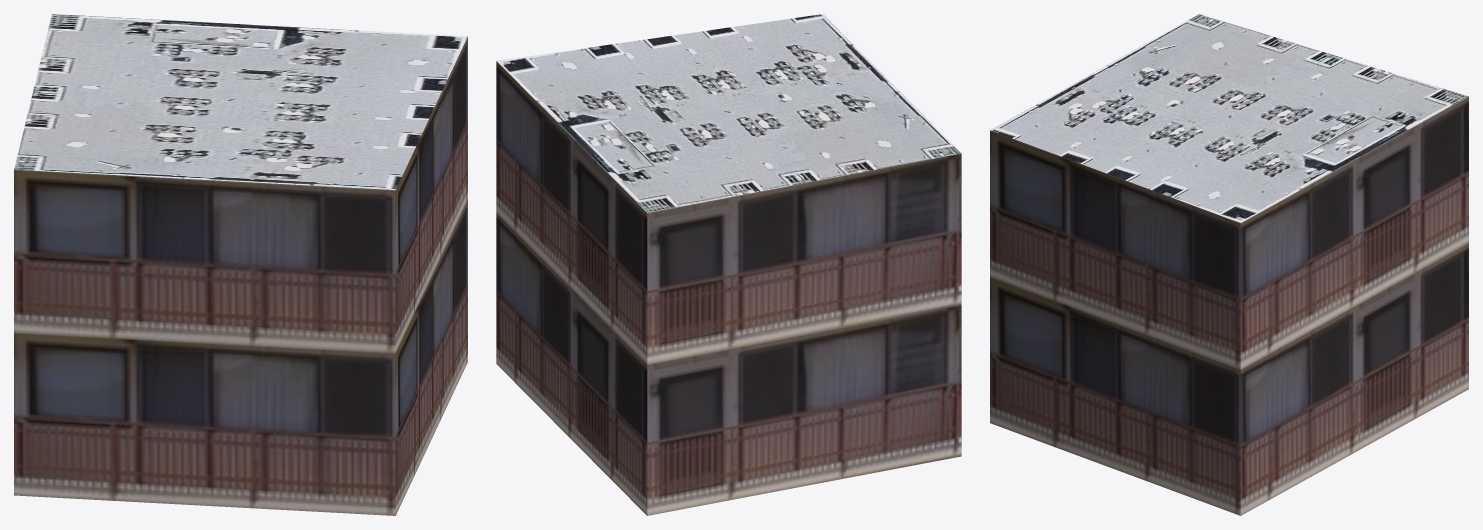
Rendered from ResTex__4941.fbx.
3 views of the same model, side by side, from view 1: azimuth 30°, elevation 25°; view 2: azimuth 150°, elevation 25°; view 3: azimuth 270°, elevation 25° (orthographic). The views are drawn at different scales.
Visible parts, largest first — view 1: CityEngineMaterial_6_m, CityEngineMaterial_8_m; view 2: CityEngineMaterial_6_m, CityEngineMaterial_8_m; view 3: CityEngineMaterial_6_m, CityEngineMaterial_8_m.
Boxes of the visible parts, box(x1,y1,x2,y2) form: CityEngineMaterial_6_m: box(14, 37, 467, 515); CityEngineMaterial_8_m: box(14, 14, 467, 189); CityEngineMaterial_6_m: box(496, 61, 961, 515); CityEngineMaterial_8_m: box(497, 14, 960, 212); CityEngineMaterial_6_m: box(990, 96, 1468, 515); CityEngineMaterial_8_m: box(990, 14, 1468, 222).
Size of the model in its own units: 9.19 by 6 by 8.89.
Materials: 2 (2 with a texture image).
